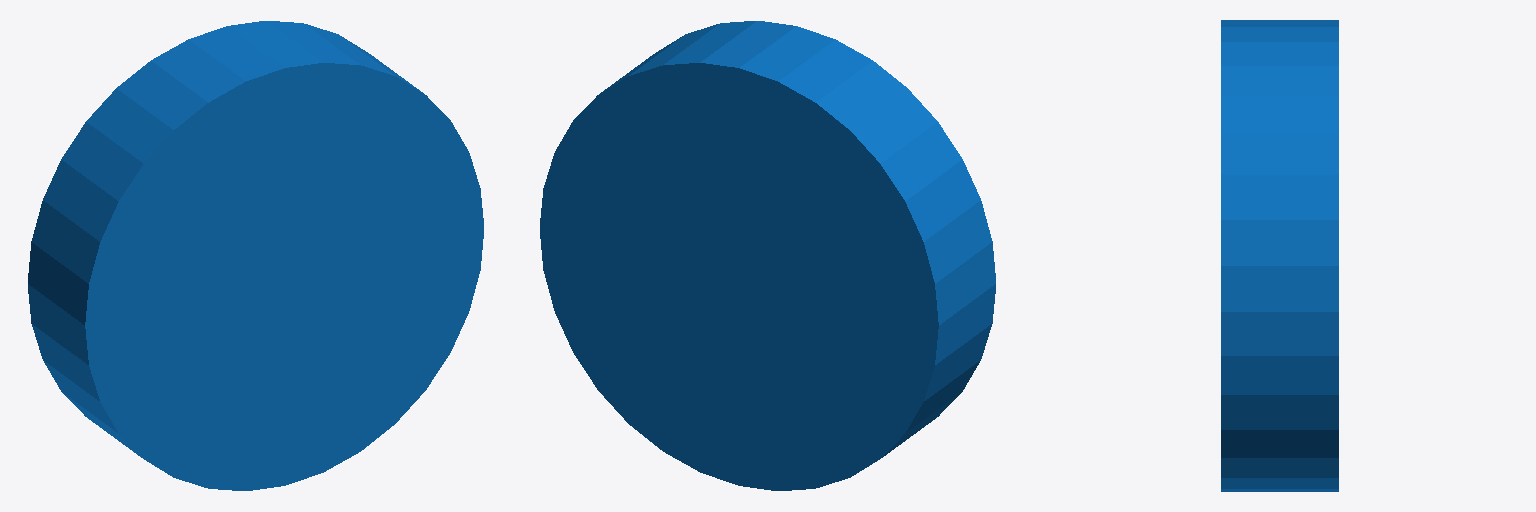
The robot description file, URDF, robot "end_effector1":
<?xml version="0.0" ?>
<robot name="end_effector1">
  <link name="baseLink">
    <contact>
      <!-- <lateral_friction value="1.0"/>
      <rolling_friction value="0.004"/> -->
      <contact_cfm value="0.0"/>
      <contact_erp value="1.0"/>
    </contact>
    <inertial>
      <mass value="0.0001"/>
      <origin rpy="0 0 0" xyz="0 0 0"/>
      <inertia ixx="8.91e-6" ixy="0" ixz="0" iyy="8.91e-6" iyz="0" izz="2.81e-6"/>
    </inertial>
    <visual>
      <origin rpy="0 0 0" xyz="0 0 0"/>
      <geometry>
        <mesh filename="meshes/end_effector1.obj"/>
      </geometry>
      <material name="white">
        <color rgba="0.1 0.5 0.8 1"/>
      </material>
    </visual>
    <collision>
      <origin rpy="0 0 0" xyz="0 0 0"/>
      <geometry>
        <mesh filename="meshes/end_effector1.obj"/>
      </geometry>
    </collision>
  </link>
</robot>

--- Render facts (derived) ---
The picture shows the robot from 3 angles, left to right: view 1: azimuth 30°, elevation 25°; view 2: azimuth 150°, elevation 25°; view 3: azimuth 270°, elevation 25°; orthographic projection.
Robot: end_effector1 — 1 links, 0 joints (none); root link baseLink; default pose: all joints at 0.
Links seen in each view (by area): view 1: baseLink; view 2: baseLink; view 3: baseLink.
Link boxes in pixels (bbox=[...]): baseLink: bbox=[28, 21, 483, 490]; baseLink: bbox=[540, 21, 995, 490]; baseLink: bbox=[1221, 20, 1338, 491].
Bounding box of the posed robot: 0.04 × 0.01 × 0.04 m (x, y, z).
Meshes: 1 distinct files referenced, 1 mesh visuals loaded (1 OBJ).